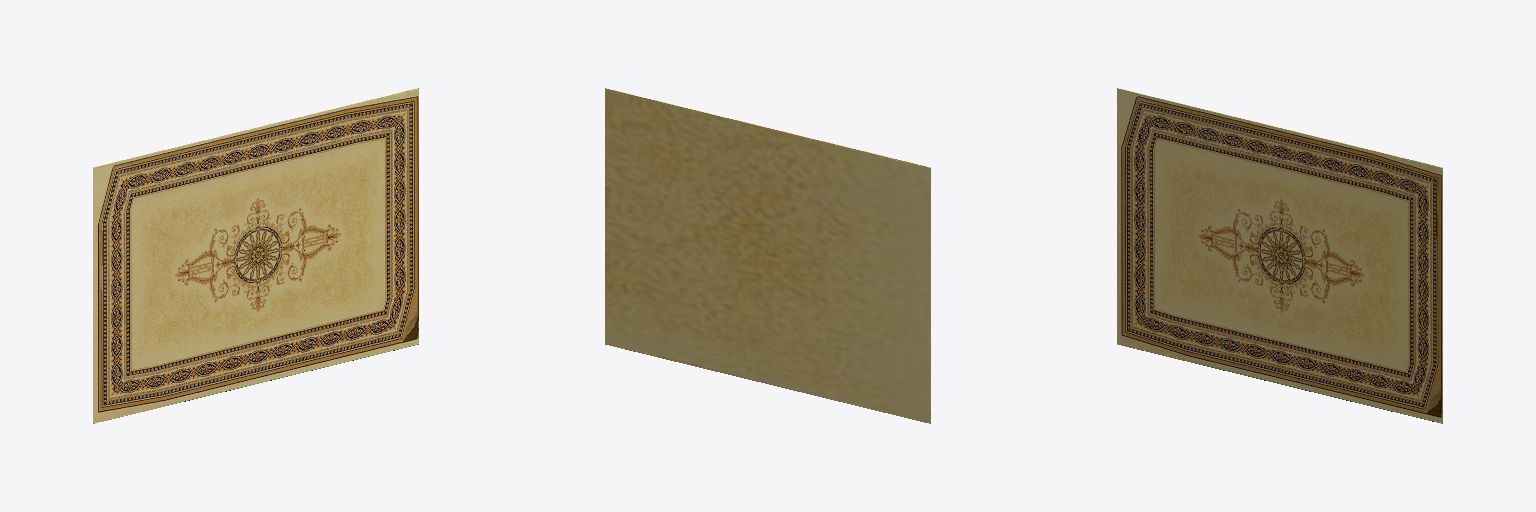
3 renders of one model, left to right at view 1: azimuth 30°, elevation 25°; view 2: azimuth 150°, elevation 25°; view 3: azimuth 330°, elevation 25°, orthographic.
Visible parts, largest first — view 1: mmGroup0; view 2: mmGroup0; view 3: mmGroup0.
Boxes of the visible parts, x1=… form: mmGroup0: x1=93, y1=88, x2=418, y2=423; mmGroup0: x1=605, y1=88, x2=930, y2=423; mmGroup0: x1=1117, y1=88, x2=1442, y2=423.
Bounding box in the file's own units: 200 × 150 × 0.6706.
Materials: 1 (1 with a texture image).